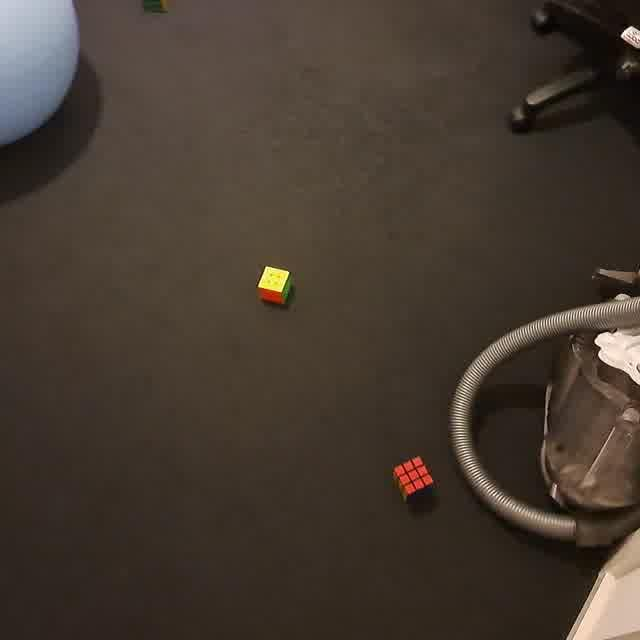rubix_cube: (390, 451, 438, 509), (255, 262, 294, 305)
